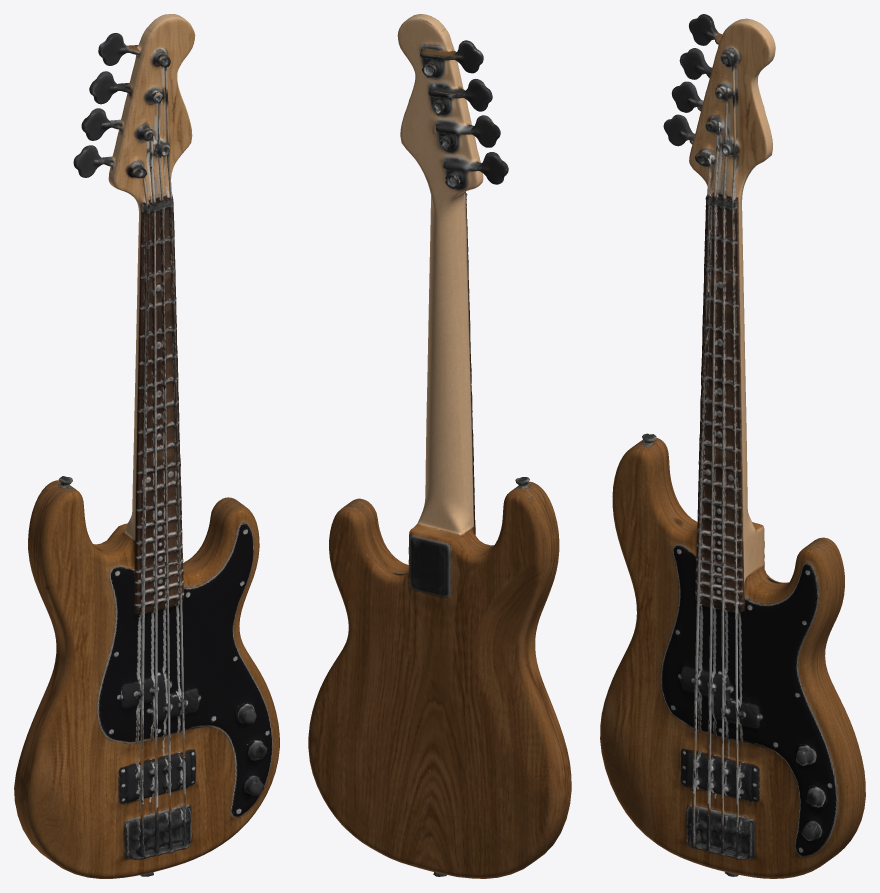
File: guitar-bass.glb
3 views of the same model, side by side, from view 1: azimuth 30°, elevation 25°; view 2: azimuth 150°, elevation 25°; view 3: azimuth 330°, elevation 25° (orthographic).
Parts seen in each view (by area): view 1: Retopo_Mesh_0; view 2: Retopo_Mesh_0; view 3: Retopo_Mesh_0.
Part boxes in pixels (<box>): Retopo_Mesh_0: <box>14,14,279,878</box>; Retopo_Mesh_0: <box>308,14,571,878</box>; Retopo_Mesh_0: <box>600,14,865,878</box>.
Bounding box in the file's own units: 0.5846 × 1.9 × 0.1216.
Materials: 1 (1 with a texture image).
